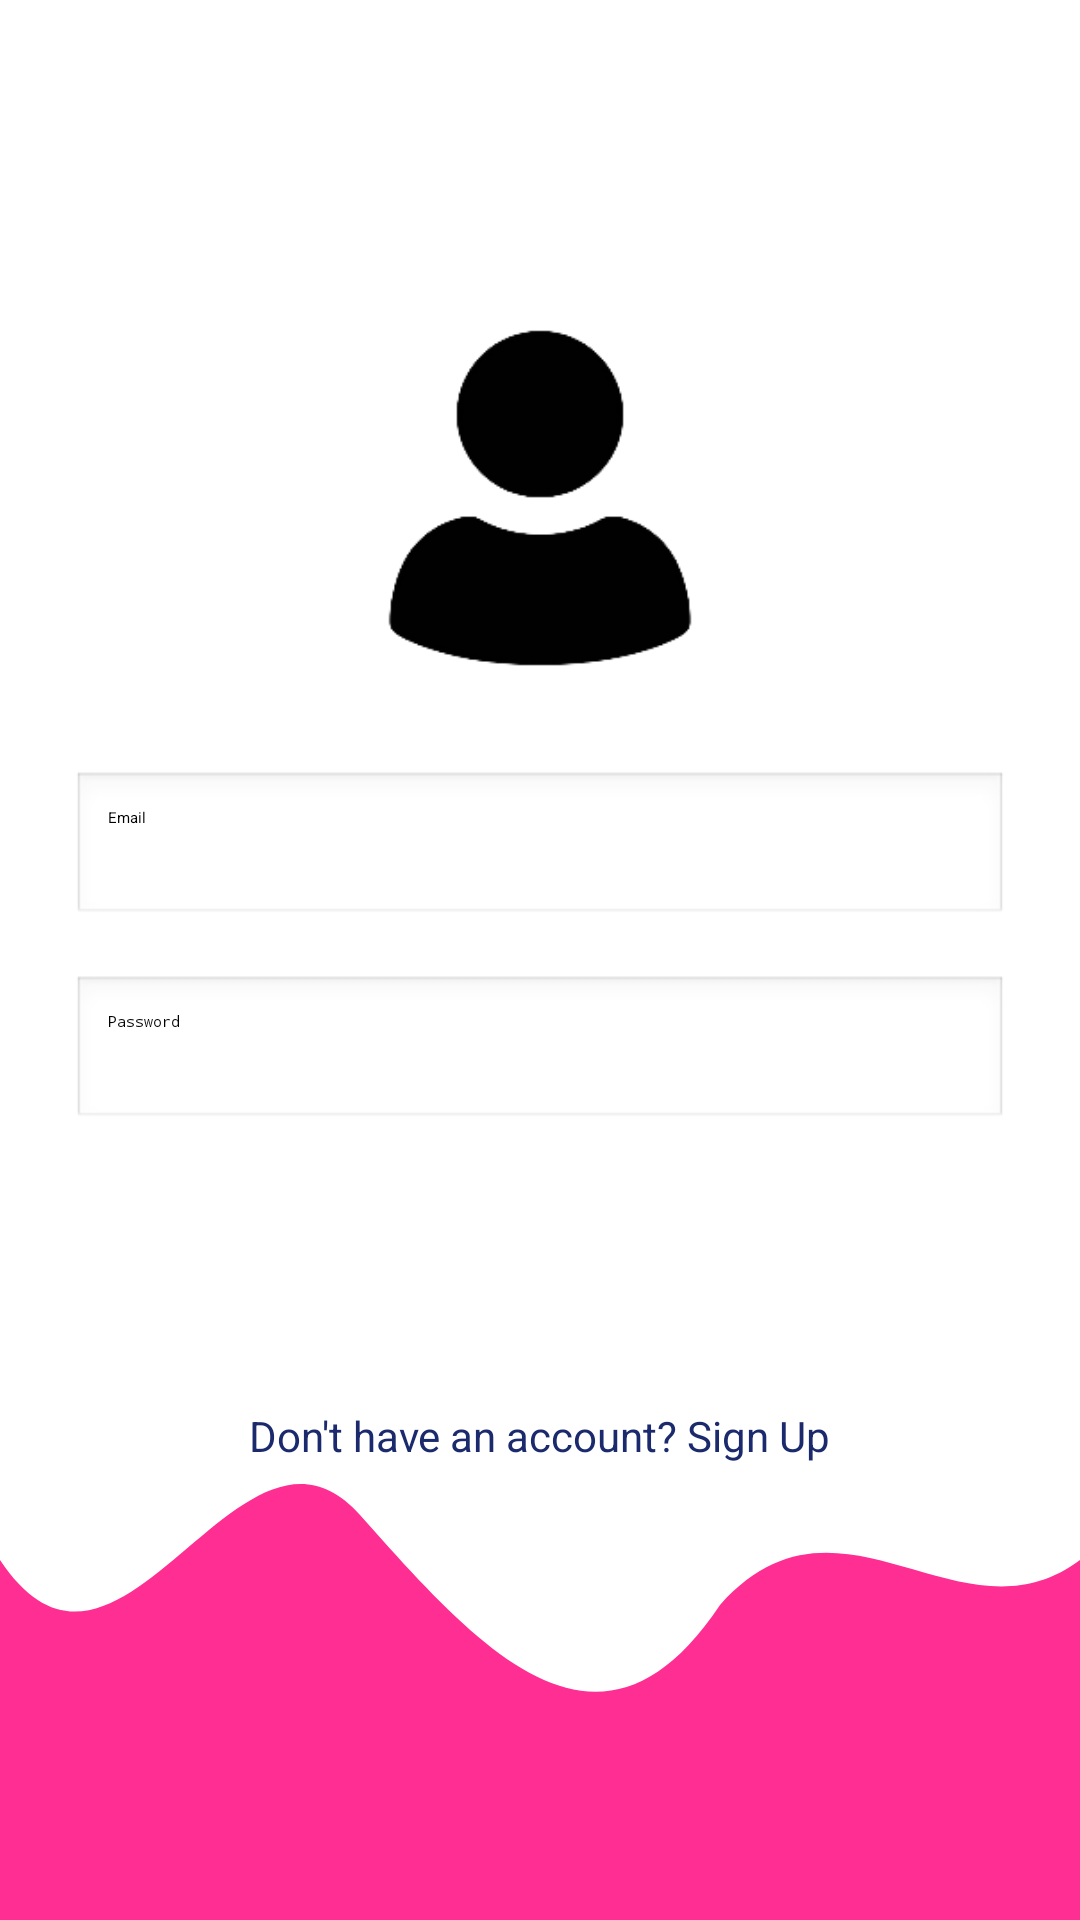

Icon click points for this 1080w x 1920h phone screenshot, format point (x, y):
Login Image: point (540, 498)
